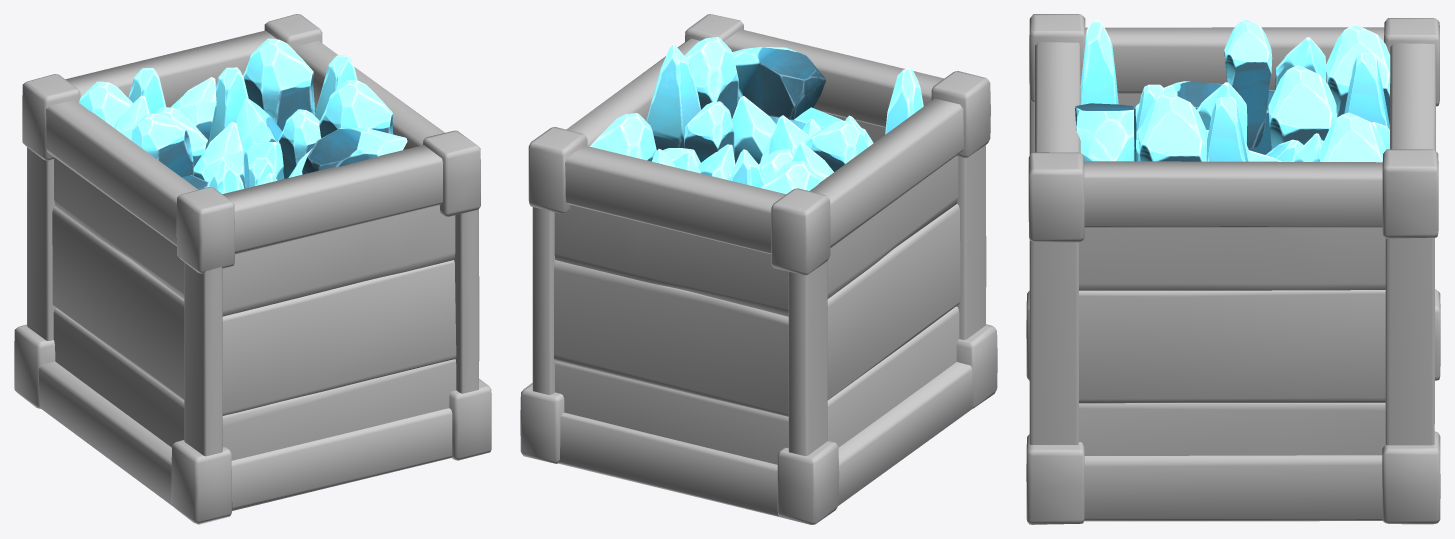
Rendered from crystal box.fbx.
The picture shows the model from 3 angles, left to right: view 1: azimuth 30°, elevation 25°; view 2: azimuth 150°, elevation 25°; view 3: azimuth 270°, elevation 25°; orthographic projection. The views are drawn at different scales.
Parts seen in each view (by area): view 1: wood2__2_, wood2, wood1__1_, metal3__3__1, metal3__2__1, wood3__1_, metal1_1 (×2), metal3__3_, metal3, wood3, wood1, metal3__1_ (+25 smaller); view 2: wood2_2, wood2, wood1_2, metal3__1_, metal3_2, wood3_2, metal3__3_, metal3, wood3, metal1_1__1_, wood1, metal3__3__1 (+25 smaller); view 3: wood2_1, metal3__2_, metal3_1, wood1_1, wood3_1, metal1_1__1__1, metal1_1_1, metal3__3_, metal1__4_, metal1__3_, metal3__3__1, metal3__1_ (+20 smaller).
Part boxes in pixels (<box>): wood2__2_: <box>222,260,456,415</box>; wood2: <box>52,206,184,400</box>; wood1__1_: <box>222,205,455,316</box>; metal3__3__1: <box>222,145,442,254</box>; metal3__2__1: <box>231,408,452,510</box>; wood3__1_: <box>222,359,456,460</box>; metal1_1 (×2): <box>184,262,491,460</box>; metal3__3_: <box>46,100,198,246</box>; metal3: <box>38,361,232,524</box>; wood3: <box>53,308,184,447</box>; wood1: <box>54,157,184,299</box>; metal3__1_: <box>65,30,276,107</box>; wood2_2: <box>554,260,788,416</box>; wood2: <box>827,204,960,400</box>; wood1_2: <box>554,205,788,316</box>; metal3__1_: <box>565,145,785,253</box>; metal3_2: <box>558,412,779,517</box>; wood3_2: <box>555,361,788,464</box>; metal3__3_: <box>809,98,963,248</box>; metal3: <box>838,362,973,505</box>; wood3: <box>827,306,959,447</box>; metal1_1__1_: <box>788,261,827,455</box>; wood1: <box>827,156,958,298</box>; metal3__3__1: <box>724,29,943,127</box>; wood2_1: <box>1079,290,1385,403</box>; metal3__2_: <box>1084,161,1382,228</box>; metal3_1: <box>1084,455,1382,521</box>; wood1_1: <box>1079,228,1385,290</box>; wood3_1: <box>1078,403,1385,455</box>; metal1_1__1__1: <box>1385,237,1434,445</box>; metal1_1_1: <box>1029,240,1078,444</box>; metal3__3_: <box>1085,27,1384,93</box>; metal1__4_: <box>1028,152,1084,242</box>; metal1__3_: <box>1382,149,1438,238</box>; metal3__3__1: <box>1034,42,1080,152</box>; metal3__1_: <box>1390,43,1435,150</box>.
Size of the model in its own units: 172 by 195 by 183.
